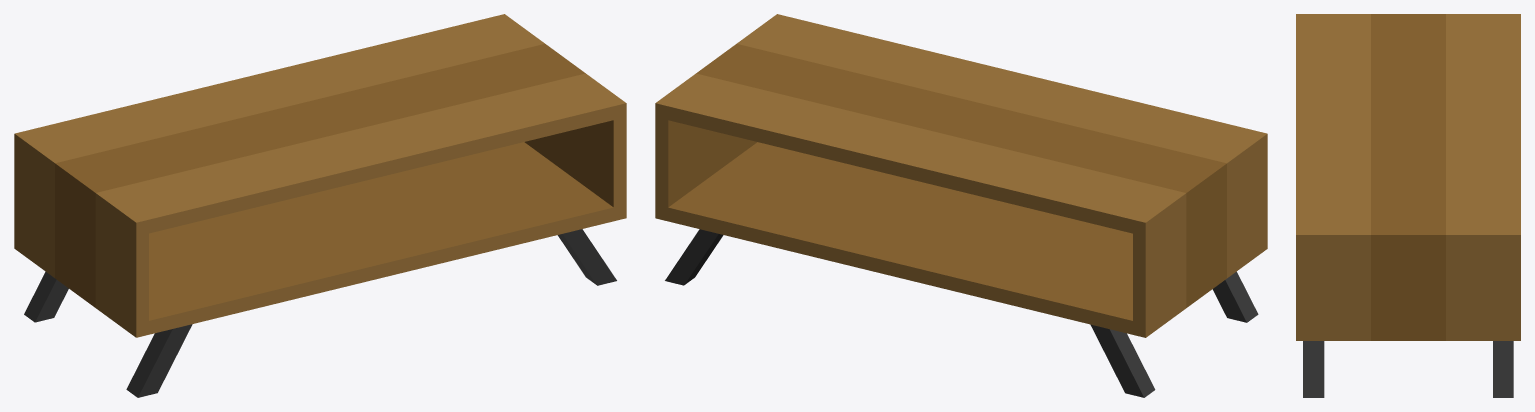
Rendered from coffee-table.glb.
3 renders of one model, left to right at view 1: azimuth 30°, elevation 25°; view 2: azimuth 150°, elevation 25°; view 3: azimuth 270°, elevation 25°, orthographic. The views are drawn at different scales.
Parts seen in each view (by area): view 1: CoffeeTable; view 2: CoffeeTable; view 3: CoffeeTable.
Part boxes in pixels (x1,y1,x2,y2): CoffeeTable: (14,14,626,397); CoffeeTable: (655,14,1267,397); CoffeeTable: (1296,14,1520,397).
Bounding box in the file's own units: 1.46 × 0.5113 × 0.6296.
Materials: 1 (1 with a texture image).
